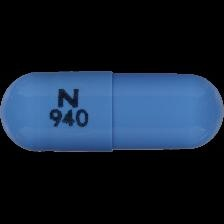0093-8940: (0, 0, 224, 224)
